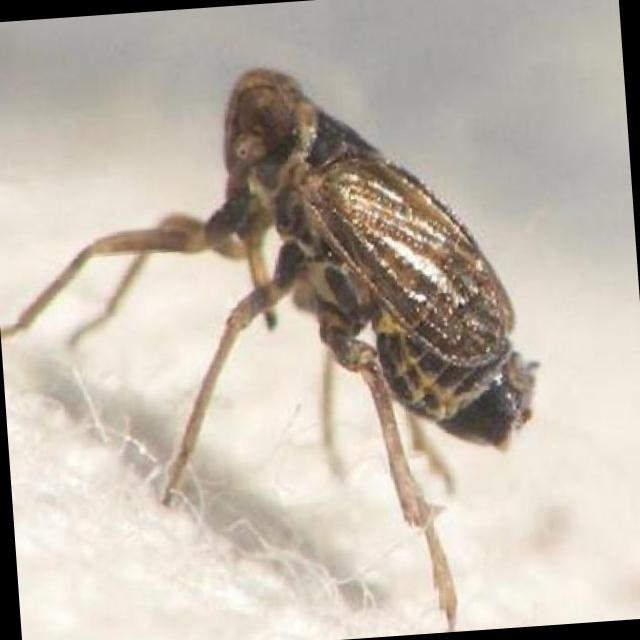brown-planthopper: (182, 36, 550, 479)
